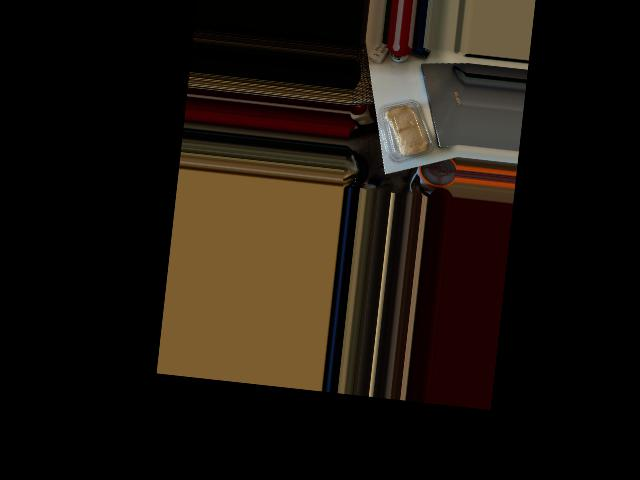cheese: (373, 94, 439, 170)
